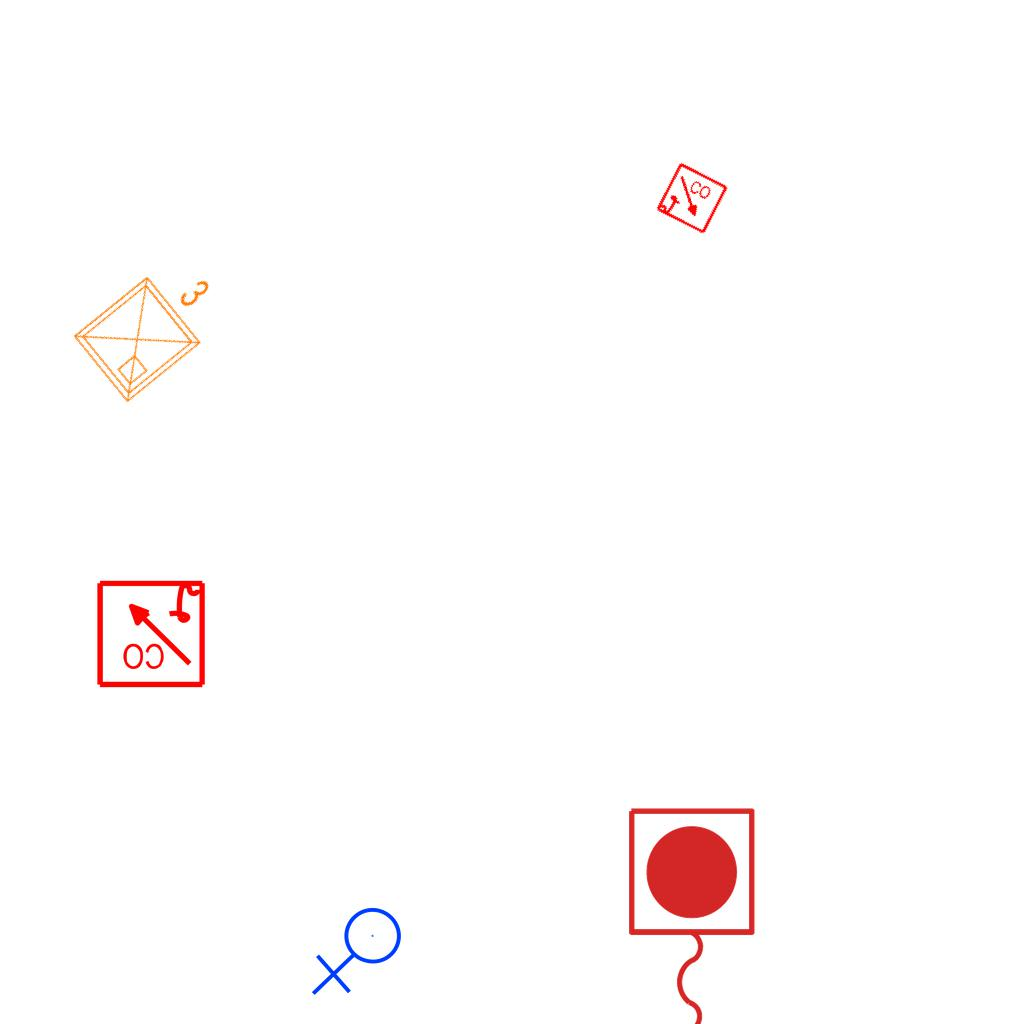Einbaudownlights_LED_Konferenzraeume: (60, 237, 244, 413)
Elektroanschluss_allgemein_230V_Geraeteanschlussdose_230V: (311, 906, 410, 1000)
ROA_Rauchmelder_optisch_mit_Signalgeber_(Sockelsirene): (94, 576, 207, 689), (654, 161, 730, 237)
Zugtaster: (618, 800, 762, 1024)
